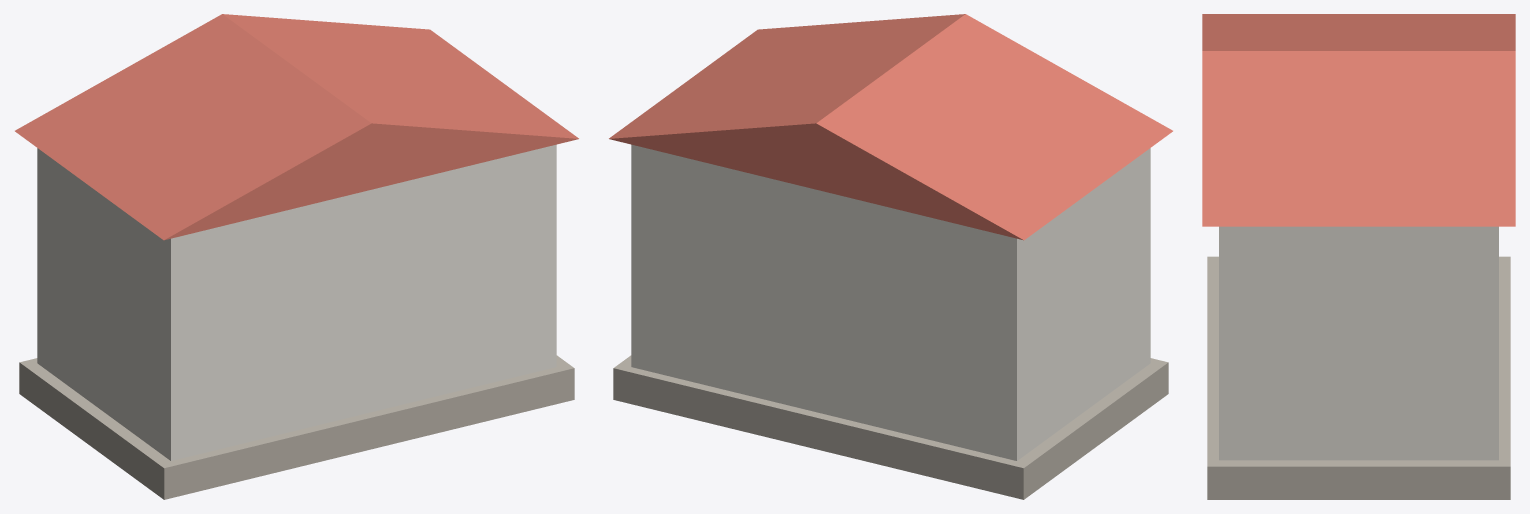
The model's file is tea_hut_cliffs_far-CZWUwqLW.glb.
3 renders of one model, left to right at view 1: azimuth 30°, elevation 25°; view 2: azimuth 150°, elevation 25°; view 3: azimuth 270°, elevation 25°, orthographic. The views are drawn at different scales.
Visible parts, largest first — view 1: tea_hut_cliffs_far; view 2: tea_hut_cliffs_far; view 3: tea_hut_cliffs_far.
Boxes of the visible parts, x1=… form: tea_hut_cliffs_far: x1=15, y1=14, x2=578, y2=499; tea_hut_cliffs_far: x1=609, y1=14, x2=1172, y2=499; tea_hut_cliffs_far: x1=1202, y1=14, x2=1515, y2=499.
Bounding box in the file's own units: 7.55 × 5.69 × 4.7.
